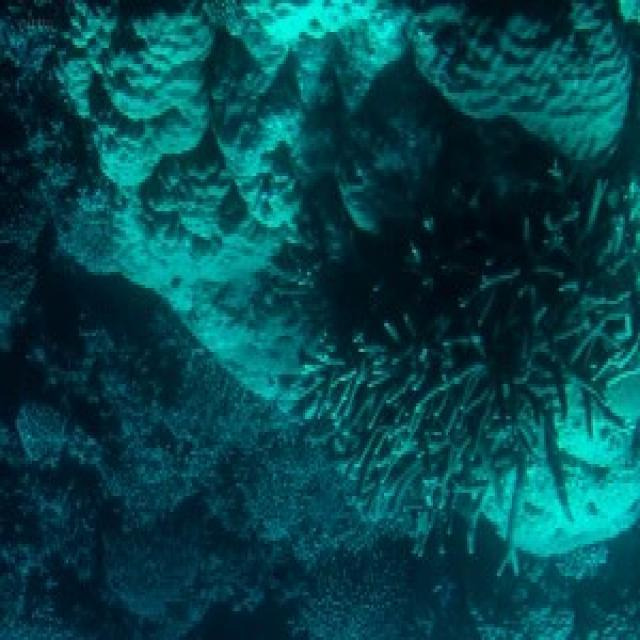Bleached: (70, 5, 398, 275), (401, 5, 634, 156), (487, 399, 639, 556), (127, 277, 291, 415)
Healthy: (293, 157, 639, 574)
